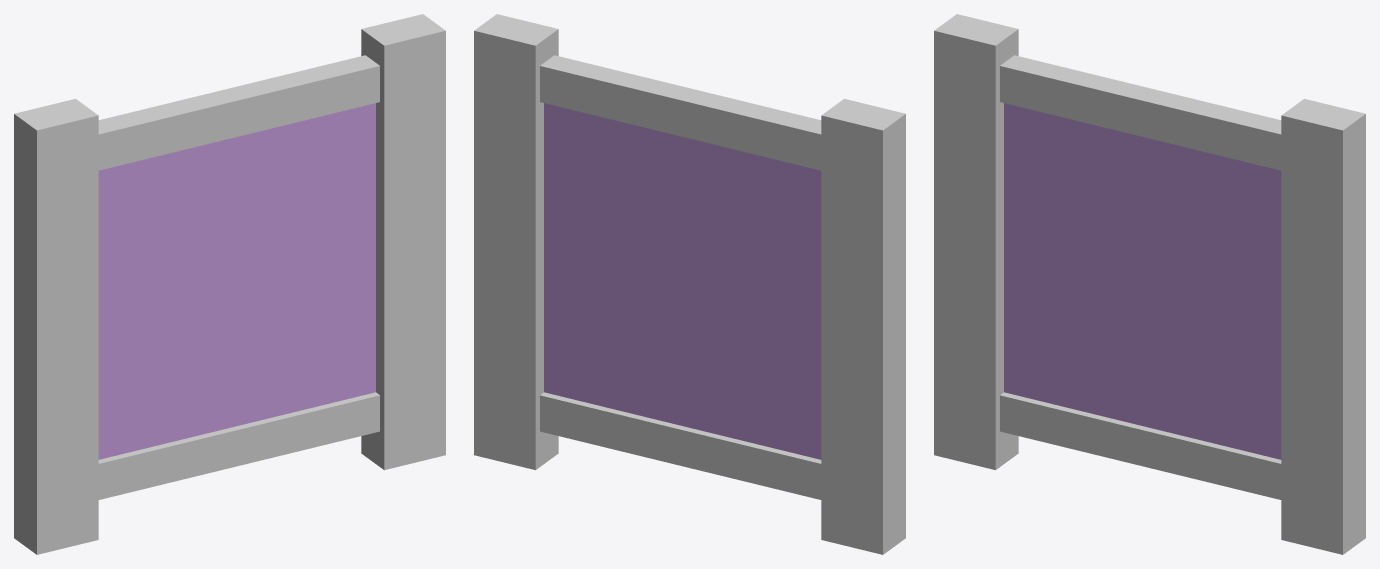
The model's file is Hole ship.fbx.
The picture shows the model from 3 angles, left to right: view 1: azimuth 30°, elevation 25°; view 2: azimuth 150°, elevation 25°; view 3: azimuth 330°, elevation 25°; orthographic projection.
Visible parts, largest first — view 1: Куб.006; view 2: Куб.006; view 3: Куб.006.
Boxes of the visible parts, <box> form: Куб.006: <box>14,14,445,554</box>; Куб.006: <box>474,14,905,554</box>; Куб.006: <box>934,14,1365,554</box>.
Bounding box in the file's own units: 348 × 345 × 33.7.
